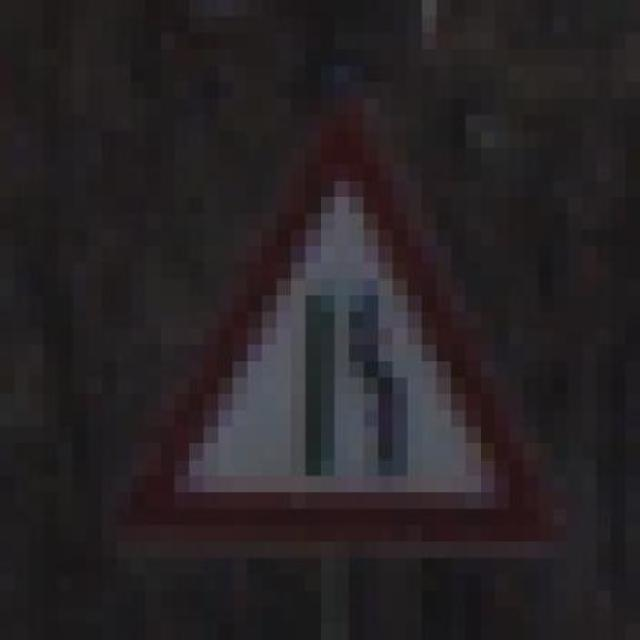-Road narrows on right: (102, 82, 568, 590)
